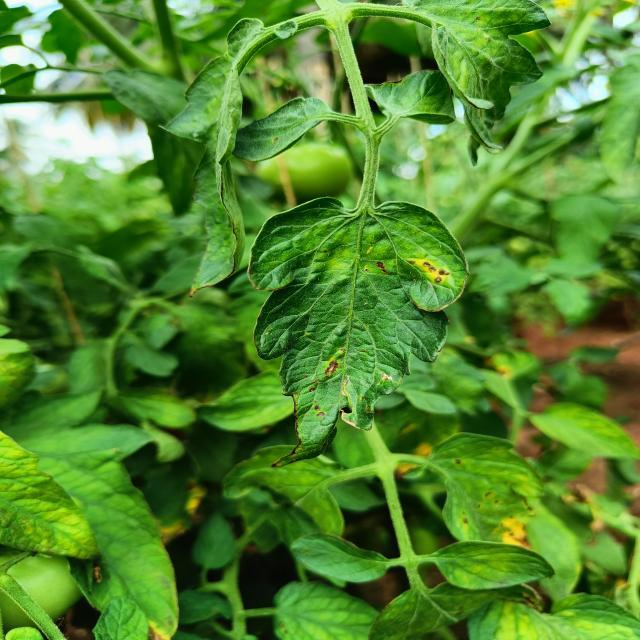Tomato mosaic virus leaf: (238, 192, 471, 472)
